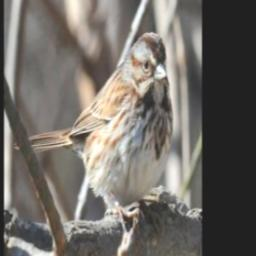Sparrow: (12, 29, 173, 234)
